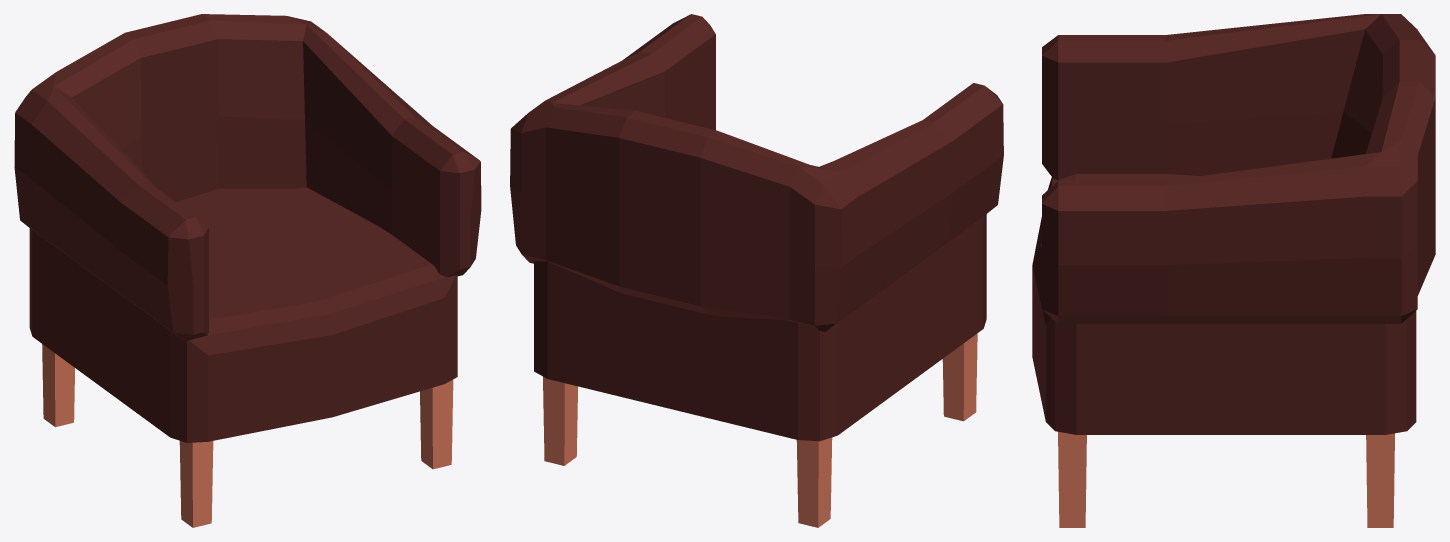
File: Cigarroom_chair.fbx
The picture shows the model from 3 angles, left to right: view 1: azimuth 30°, elevation 25°; view 2: azimuth 150°, elevation 25°; view 3: azimuth 270°, elevation 25°; orthographic projection. The views are drawn at different scales.
Parts seen in each view (by area): view 1: Cube.002; view 2: Cube.002; view 3: Cube.002.
Boxes of the visible parts, left/top/right/bottom form: Cube.002: left=14, top=14, right=481, bottom=527; Cube.002: left=510, top=14, right=1003, bottom=527; Cube.002: left=1032, top=14, right=1435, bottom=527.
Bounding box in the file's own units: 283 × 306 × 281.
